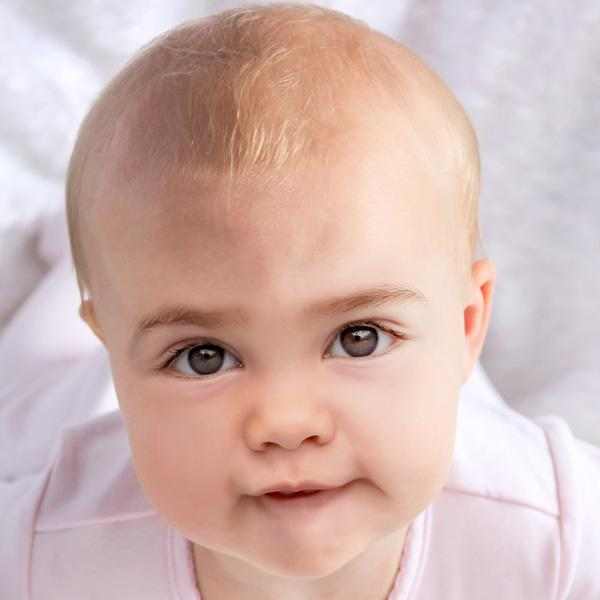Eyes: (306, 308, 417, 376), (146, 328, 249, 398)
